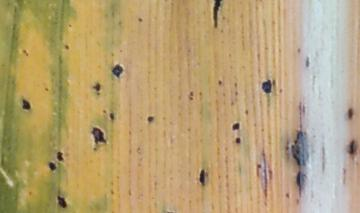tarspot: (291, 130, 310, 167), (90, 126, 108, 146), (295, 171, 307, 197), (212, 1, 223, 28), (259, 78, 273, 94), (111, 63, 124, 78), (198, 168, 207, 187), (55, 194, 67, 208), (22, 98, 32, 112), (348, 140, 358, 154), (19, 46, 30, 58), (347, 106, 355, 121), (56, 150, 65, 162), (47, 161, 57, 171), (92, 82, 102, 92), (187, 90, 195, 102), (231, 122, 240, 132), (108, 111, 116, 121), (135, 16, 144, 24), (63, 42, 71, 51), (147, 114, 154, 124), (216, 78, 223, 86), (43, 85, 50, 93), (234, 137, 241, 144), (102, 107, 108, 115), (257, 163, 262, 170), (68, 22, 73, 28)
